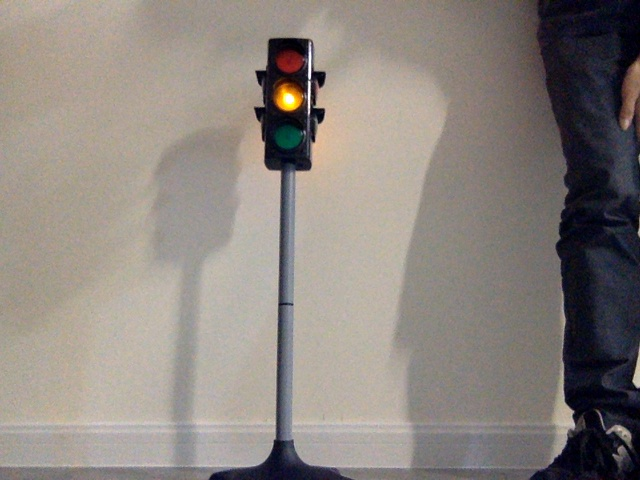yellow: (266, 39, 304, 152)
